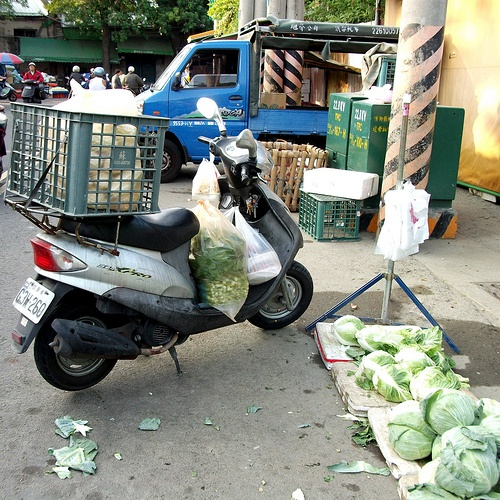non-vehicle: (10, 98, 319, 396), (20, 75, 44, 103), (0, 78, 18, 102), (67, 80, 87, 98)
